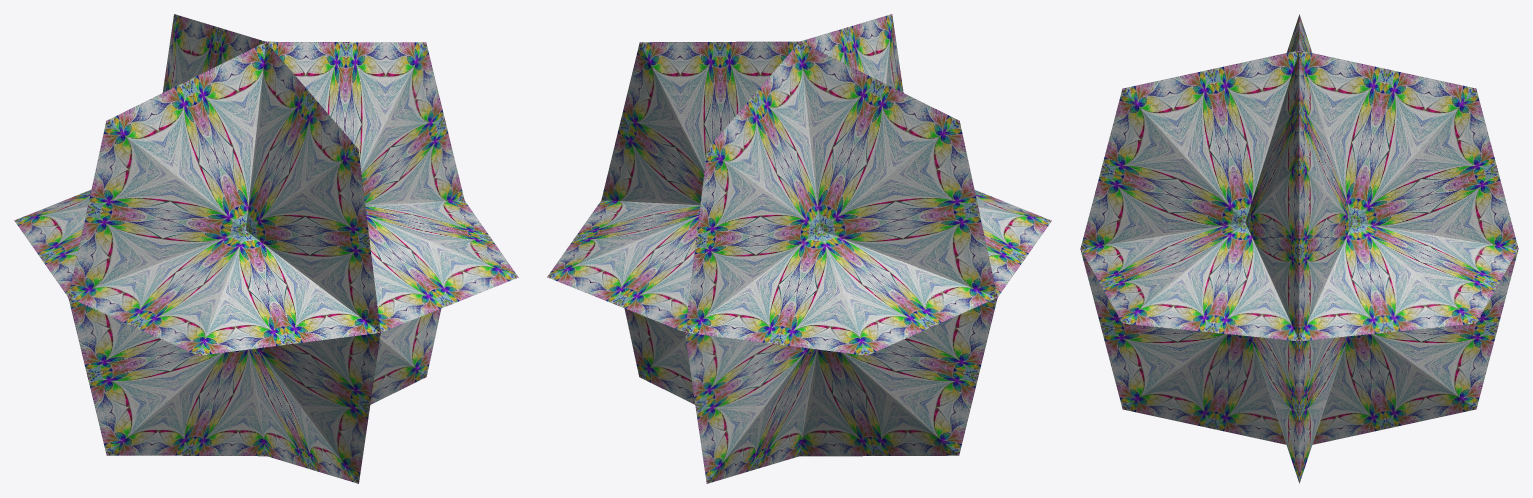
Rendered from Mobius48a_6.obj.
3 views of the same model, side by side, from view 1: azimuth 30°, elevation 25°; view 2: azimuth 150°, elevation 25°; view 3: azimuth 270°, elevation 25° (orthographic). The views are drawn at different scales.
Size of the model in its own units: 2.41 by 2.41 by 2.41.
Materials: 1 (1 with a texture image).
